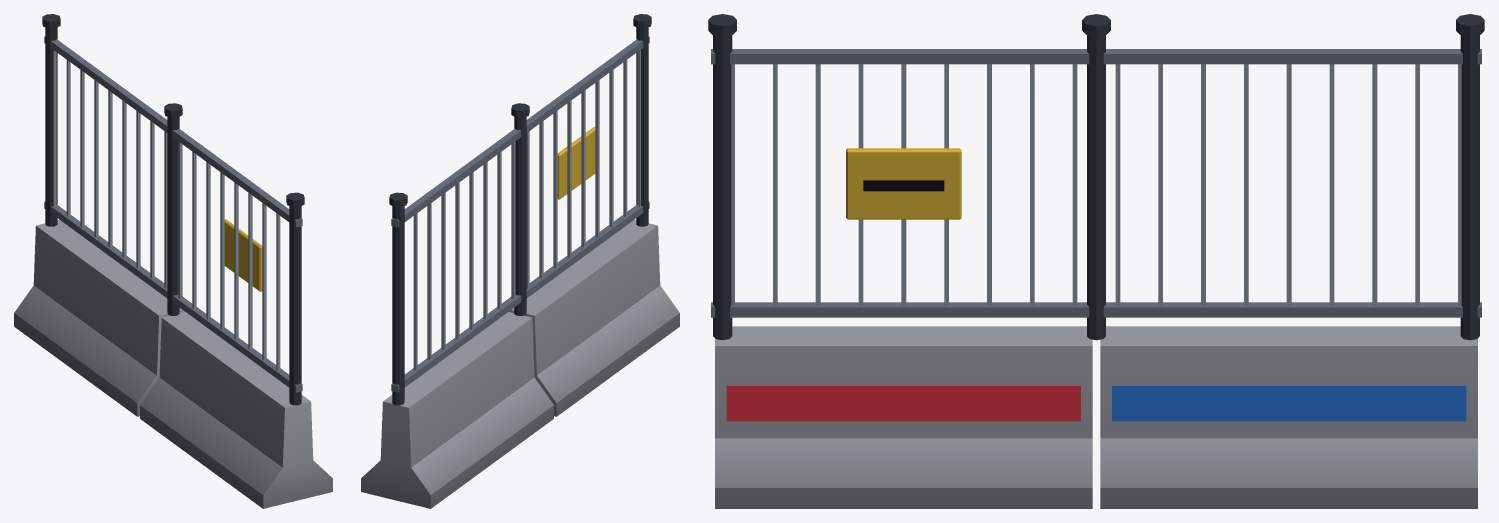
Rendered from wall_fence.glb.
3 views of the same model, side by side, from view 1: azimuth 30°, elevation 25°; view 2: azimuth 150°, elevation 25°; view 3: azimuth 270°, elevation 25° (orthographic). The views are drawn at different scales.
Parts seen in each view (by area): view 1: Body; view 2: Body; view 3: Body.
Boxes of the visible parts, x1,y1,x2,y2 form: Body: [14, 14, 332, 508]; Body: [361, 14, 679, 508]; Body: [708, 14, 1484, 508].
Size of the model in its own units: 0.64 by 2.65 by 4.03.
